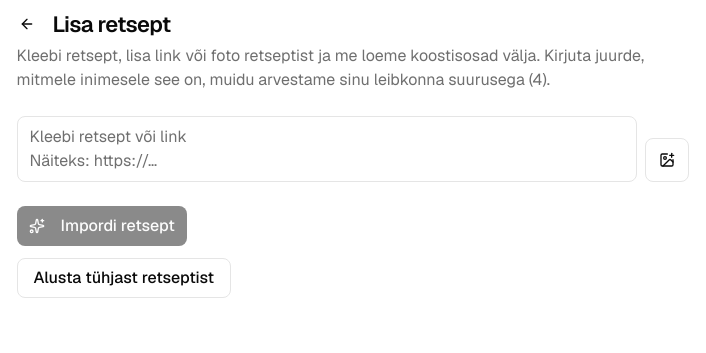
Test case: RecipeImportClient error localization › renders the Estonian copy for a robots-disallowed 403
The width and height of the screenshot is (706, 353).
Type "https://example.com/recipe" into the text box at (326, 149), box [16,116,636,182]
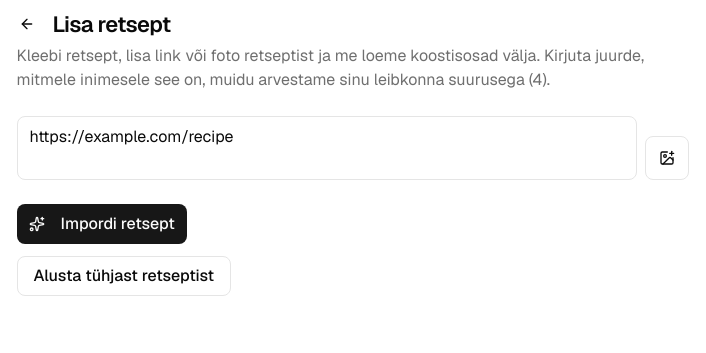
Click the button "Impordi retsept" at (102, 224), box [16,204,187,244]
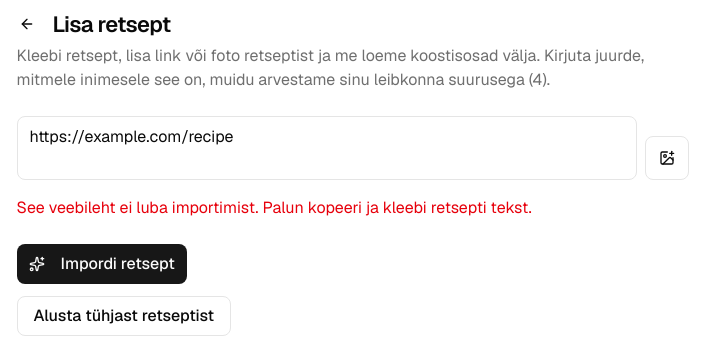
Check: the text "See veebileht ei luba importimist. Palun kopeeri ja kleebi retsepti tekst." is shown, box [16,197,532,218]
